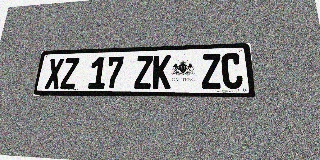1: (88, 57, 107, 89)
7: (105, 56, 124, 89)
C: (221, 53, 243, 89)
K: (152, 55, 171, 89)
X: (44, 58, 64, 89)
Z: (201, 54, 222, 89), (134, 56, 153, 89), (60, 58, 79, 89)
